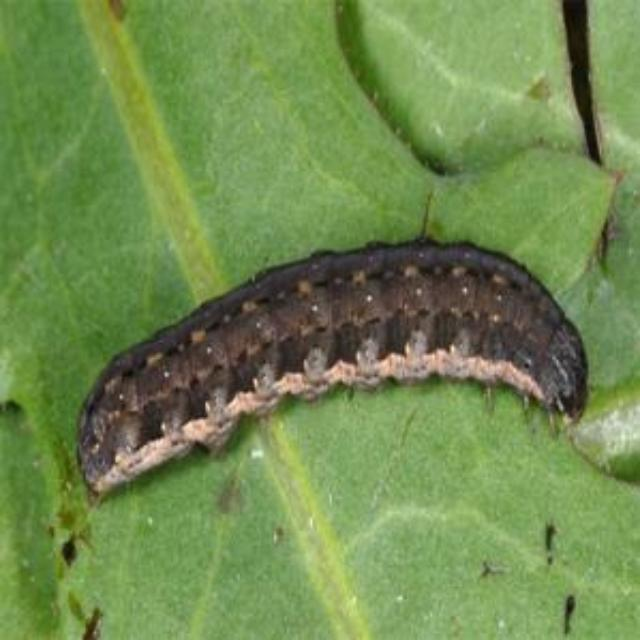Beet armyworm: (27, 150, 631, 550)
